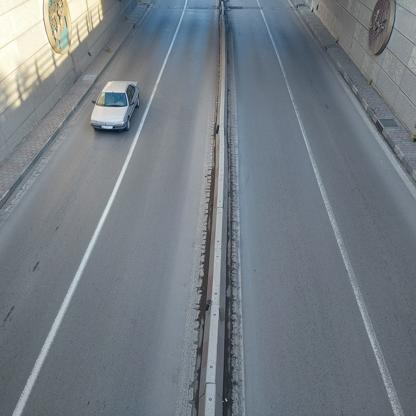Car: (89, 79, 144, 132)
